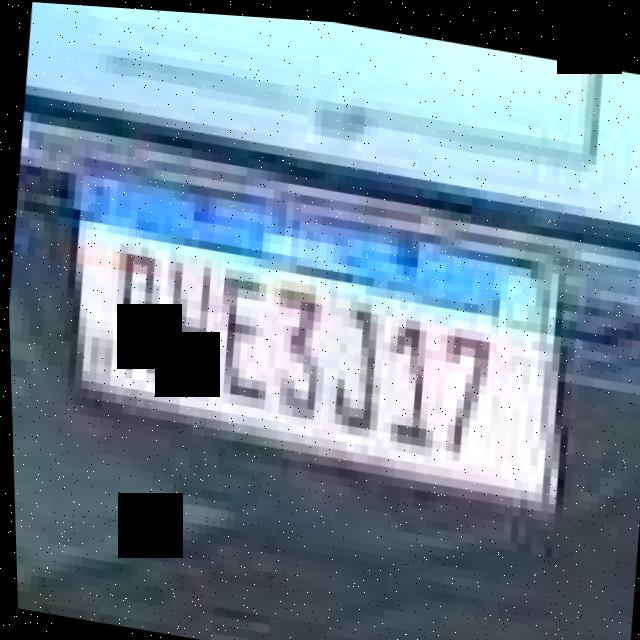1: (374, 299, 445, 458)
3: (259, 274, 334, 423)
7: (433, 313, 496, 462)
E: (206, 261, 280, 409)
J: (316, 286, 388, 436)
R: (102, 234, 174, 382)
W: (155, 249, 224, 400)
